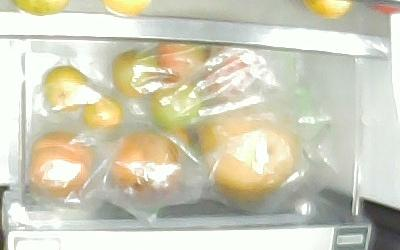peach_vinyl: (109, 129, 183, 199), (29, 132, 94, 198)
pear_vinyl: (197, 112, 299, 197)
tangerine_vinyl: (41, 64, 87, 113), (84, 98, 122, 128)
tomato_vinyl: (148, 80, 204, 129), (110, 48, 162, 99), (155, 42, 214, 83)
